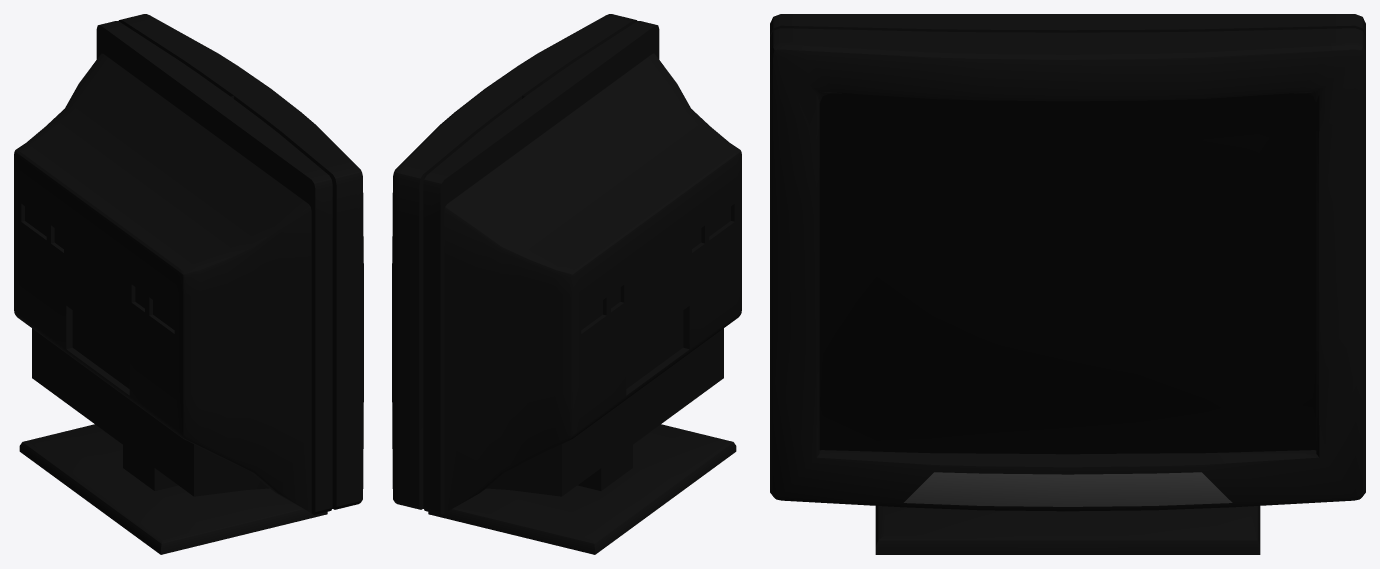
The model's file is Monitor_01.glb.
The picture shows the model from 3 angles, left to right: view 1: azimuth 30°, elevation 25°; view 2: azimuth 150°, elevation 25°; view 3: azimuth 270°, elevation 25°; orthographic projection. The views are drawn at different scales.
Visible parts, largest first — view 1: Mesh_Monitor_01; view 2: Mesh_Monitor_01; view 3: Mesh_Monitor_01.
Boxes of the visible parts, box(x1,y1,x2,y2) form: Mesh_Monitor_01: box(14, 14, 363, 554); Mesh_Monitor_01: box(392, 14, 741, 554); Mesh_Monitor_01: box(770, 14, 1365, 554).
Size of the model in its own units: 0.2917 by 0.5629 by 0.5994.
1 material, 1 textured.
